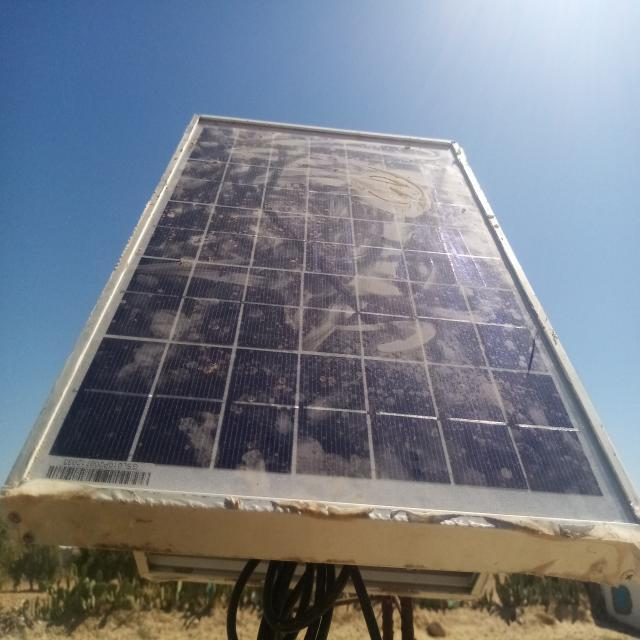faulty: (8, 117, 640, 529)
